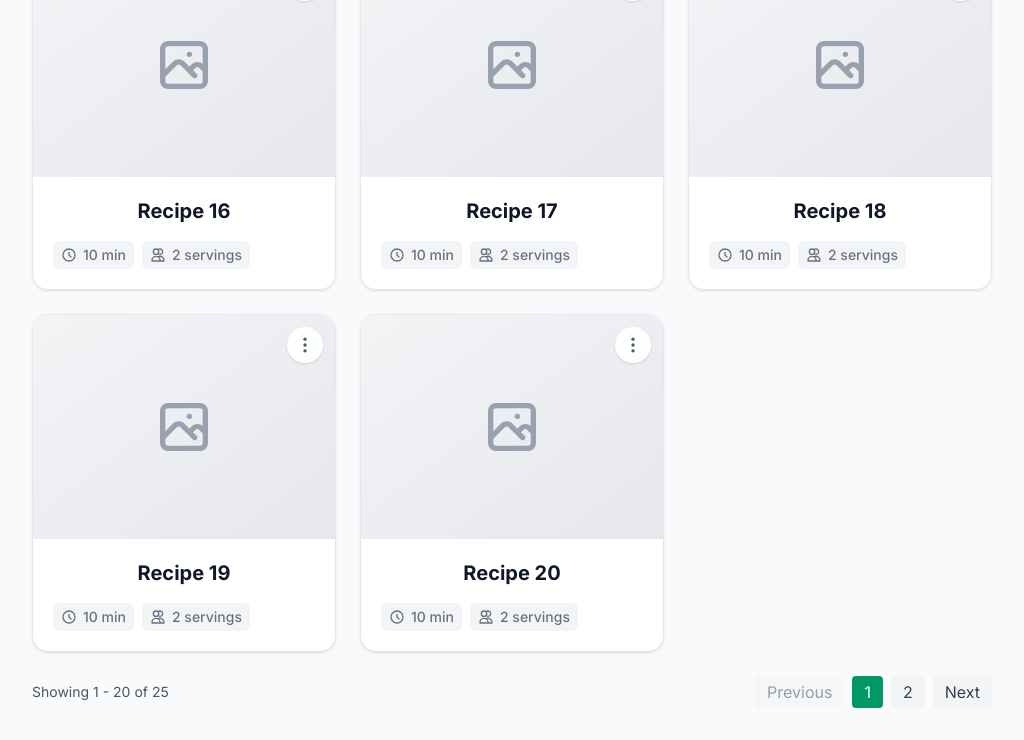
it: RecipeLibrary › Recipe Display › should paginate when many recipes exist
(page scrolled)
Expected: the heading "Recipe 20" is shown, x1=463 y1=561 x2=561 y2=585
Expected: the text "Recipe 21" is not shown
Click next to go to page 2
Step 1. Click the button with aria-label "Next page" → [962, 692], box x1=933 y1=676 x2=992 y2=708
(page scrolled)
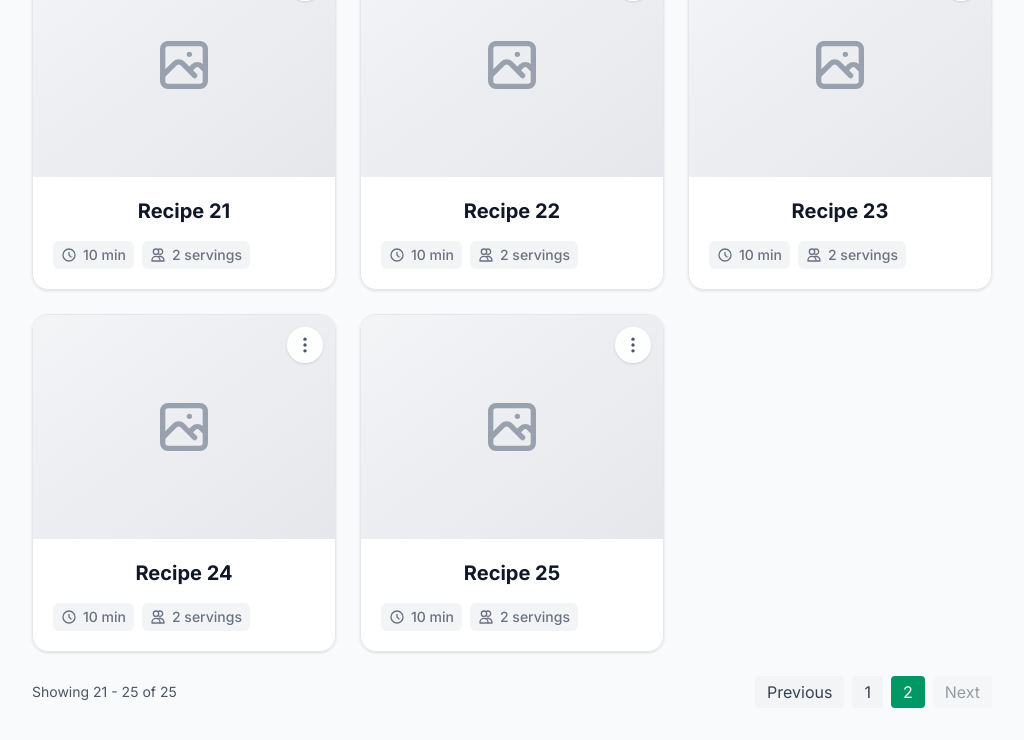
Expected: the heading "Recipe 21" is shown, x1=138 y1=199 x2=230 y2=223
Expected: the heading "Recipe 25" is shown, x1=464 y1=561 x2=560 y2=585
